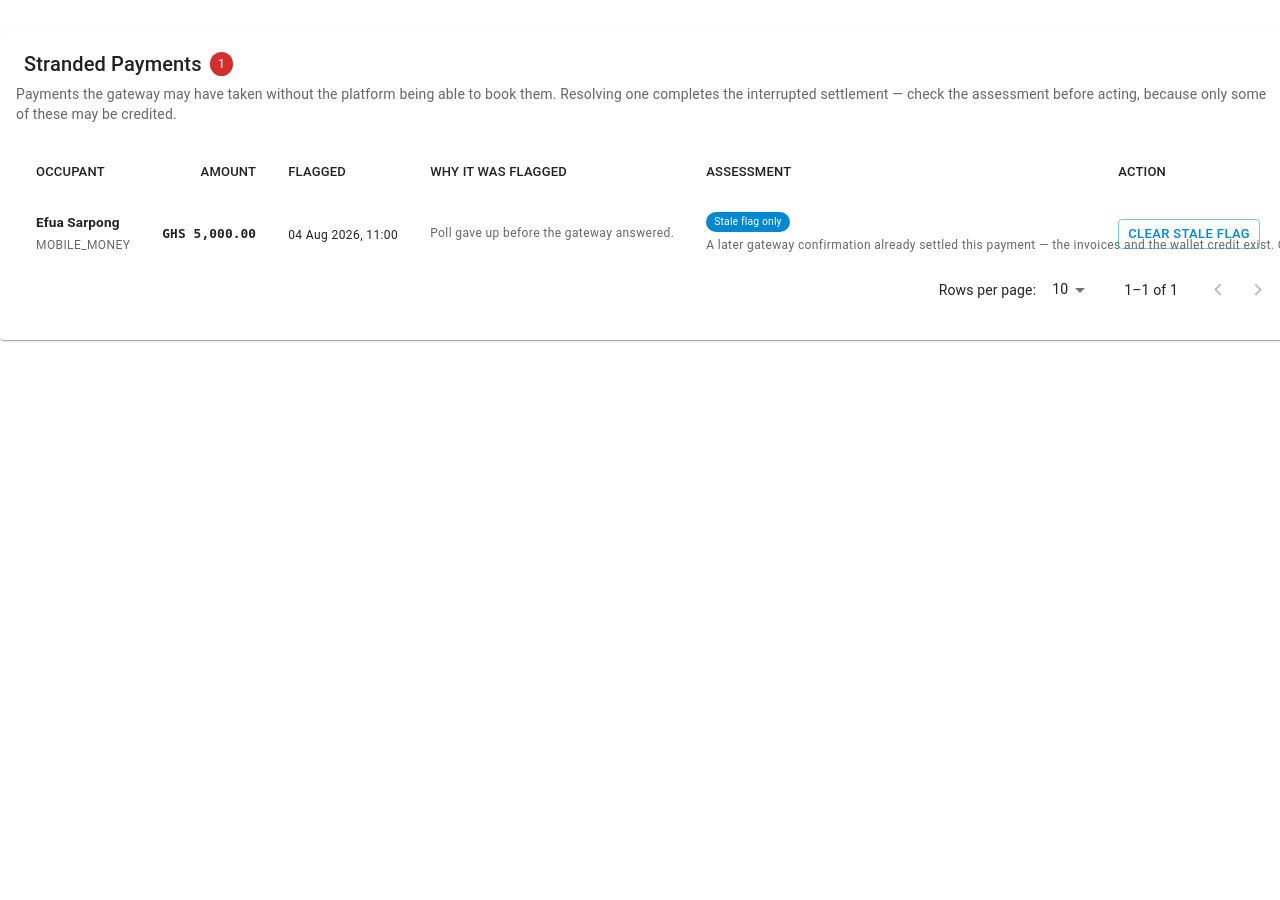
Test: AdminReconciliationQueue › offers the stale-flag row a clearing action whose wording promises no money movement
The width and height of the screenshot is (1280, 900).
Expected: the text "Efua Sarpong" is shown, x1=36 y1=212 x2=130 y2=233
Click the button "Clear stale flag" at coordinates (1189, 234), box x1=1118 y1=219 x2=1260 y2=249
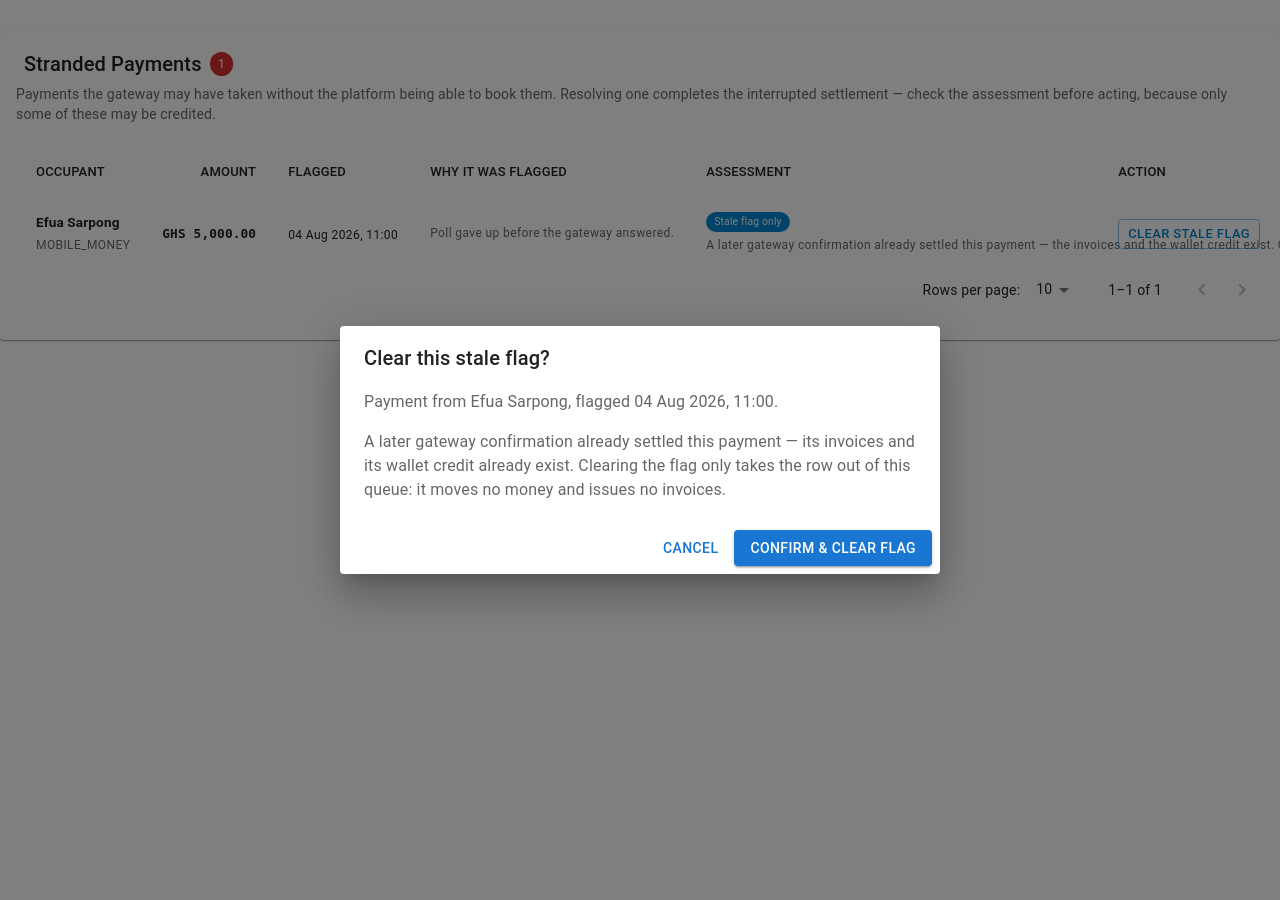
Expected: the text "moves no money" is shown, x1=364 y1=432 x2=915 y2=499
Expected: the button "Confirm & clear flag" is shown, x1=734 y1=530 x2=932 y2=566
